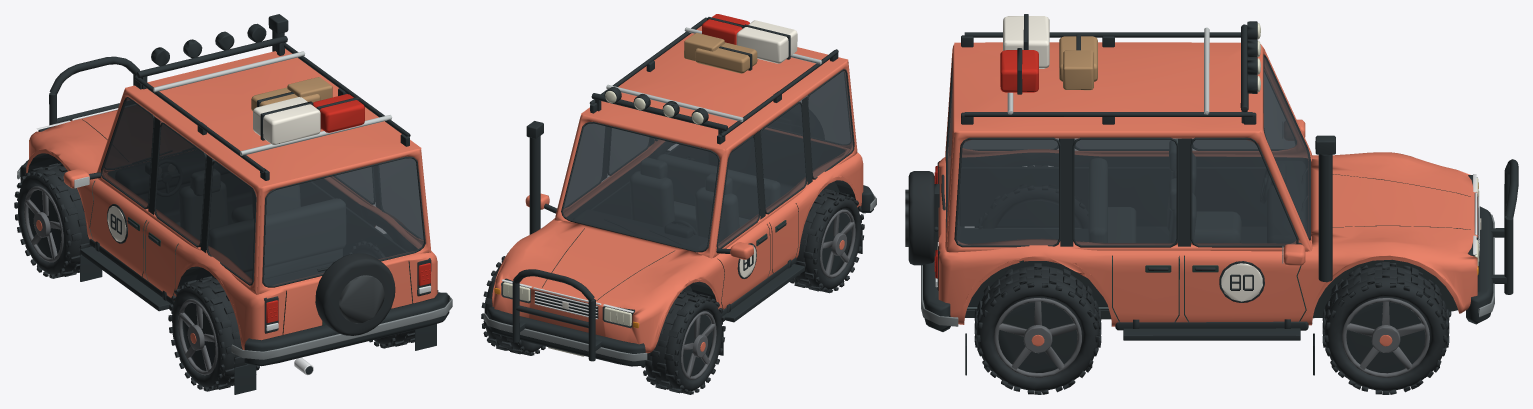
Rendered from yama_lod2.fbx.
3 views of the same model, side by side, from view 1: azimuth 30°, elevation 25°; view 2: azimuth 150°, elevation 25°; view 3: azimuth 270°, elevation 25° (orthographic). The views are drawn at different scales.
Parts seen in each view (by area): view 1: Body, Wheel_RL_Mesh, Wheel_FL_Mesh, Wheel_RR_Mesh; view 2: Body, Wheel_FL_Mesh, Wheel_RL_Mesh, Wheel_FR_Mesh; view 3: Body, Wheel_FR_Mesh, Wheel_RR_Mesh, Wheel_RL_Mesh.
Boxes of the visible parts, x1=… form: Body: x1=17, y1=14, x2=452, y2=394; Wheel_RL_Mesh: x1=168, y1=276, x2=259, y2=391; Wheel_FL_Mesh: x1=14, y1=163, x2=90, y2=278; Wheel_RR_Mesh: x1=348, y1=233, x2=438, y2=348; Body: x1=483, y1=14, x2=876, y2=366; Wheel_FL_Mesh: x1=641, y1=290, x2=725, y2=394; Wheel_RL_Mesh: x1=790, y1=189, x2=864, y2=293; Wheel_FR_Mesh: x1=481, y1=253, x2=545, y2=355; Body: x1=905, y1=14, x2=1518, y2=375; Wheel_FR_Mesh: x1=1322, y1=262, x2=1449, y2=394; Wheel_RR_Mesh: x1=974, y1=263, x2=1101, y2=394; Wheel_RL_Mesh: x1=975, y1=165, x2=1087, y2=228.
Bounding box in the file's own units: 245 × 251 × 469.
